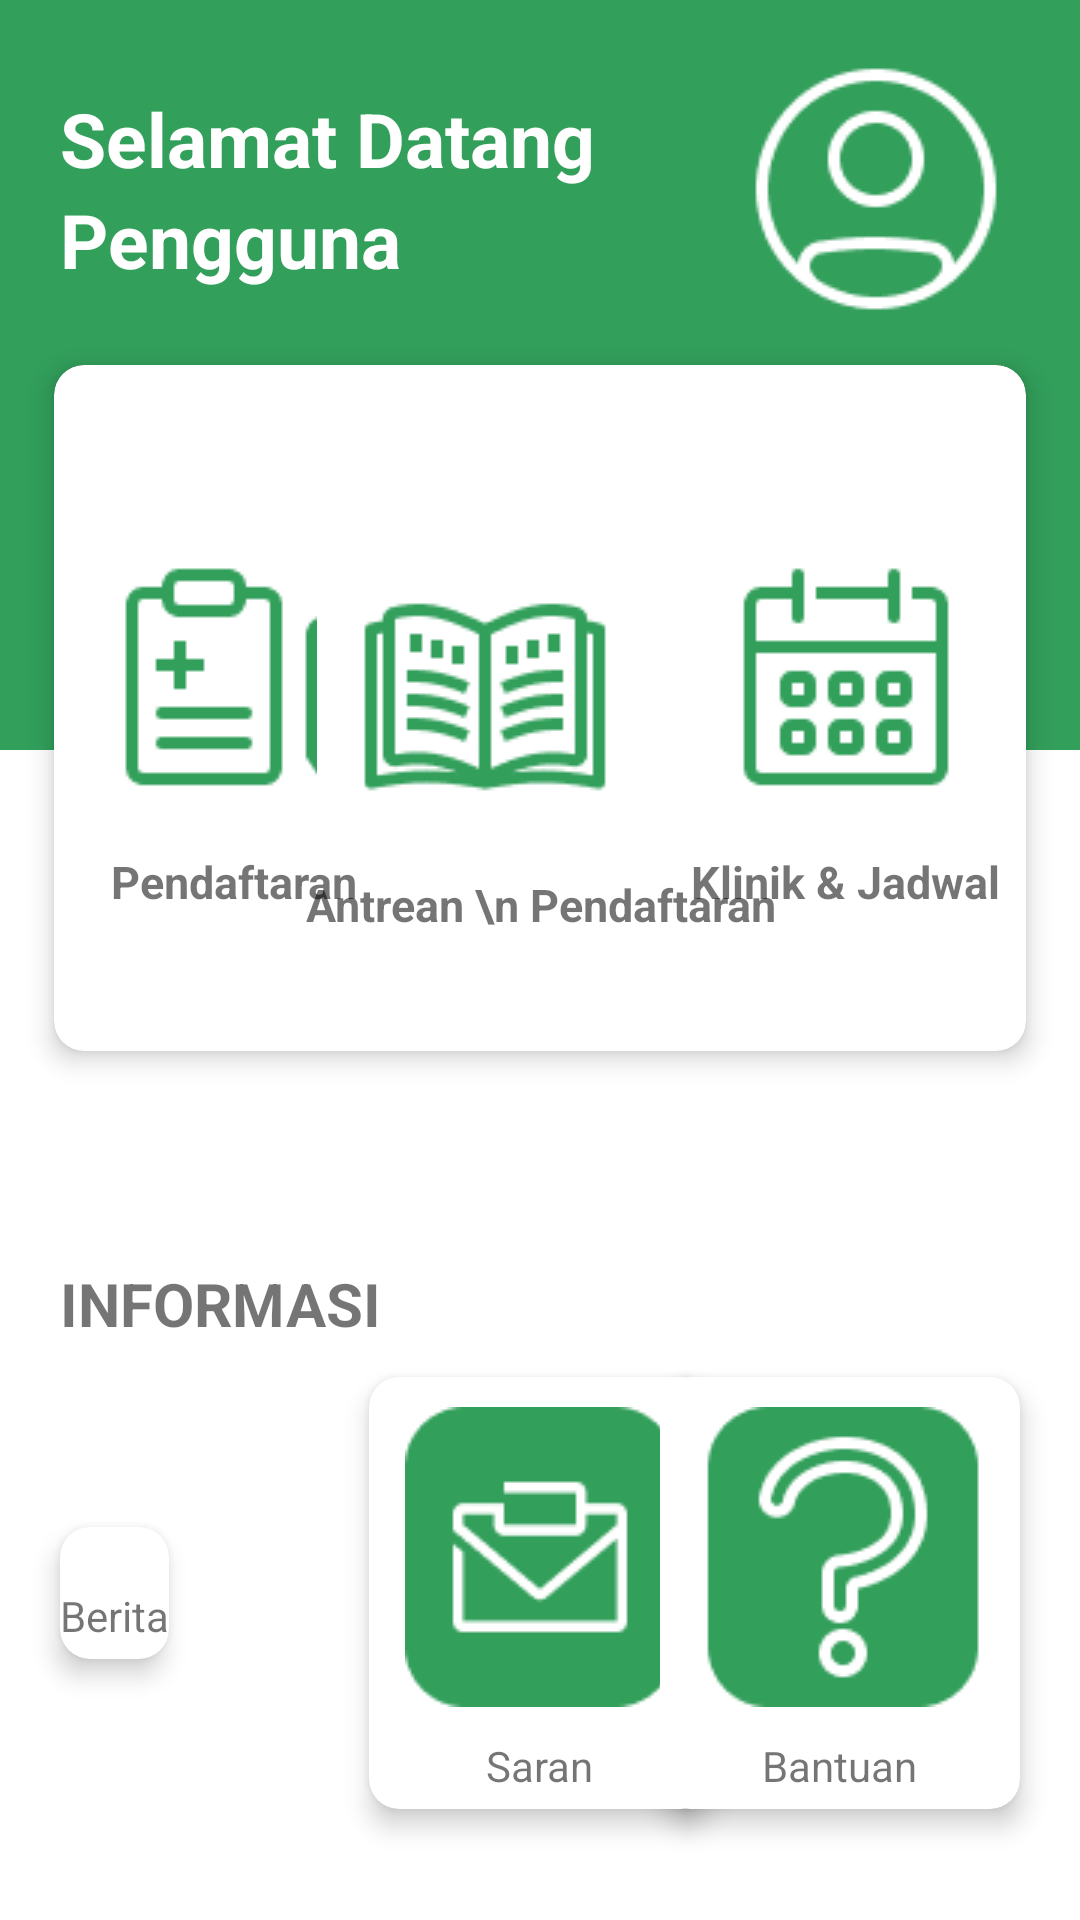

Screen size 1080x1920. Icon name, then its box in pixels as (x1=x1, y1=y1, x2=x2, y2=y2):
buku: (x1=305, y1=603, x2=606, y2=791)
kalender: (x1=743, y1=568, x2=949, y2=786)
profil pict: (x1=755, y1=68, x2=997, y2=310)
